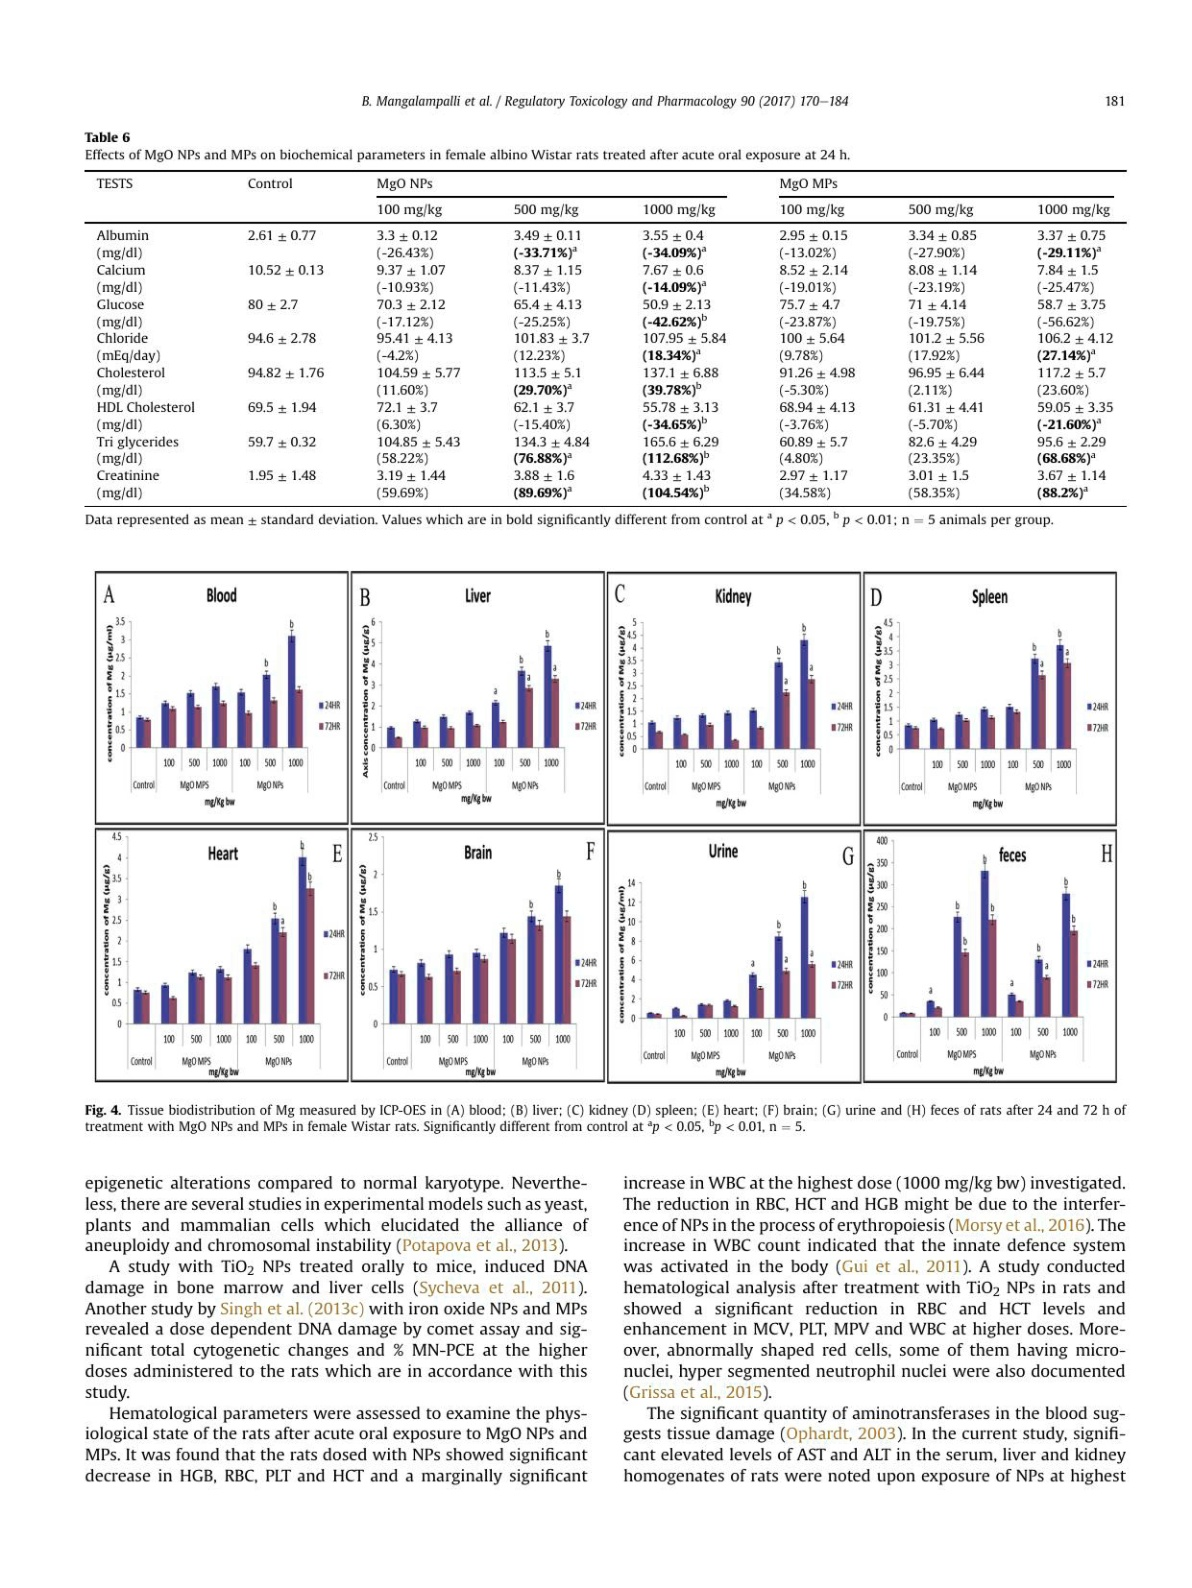partial_lined_merged_cells: (84, 168, 1126, 508)
